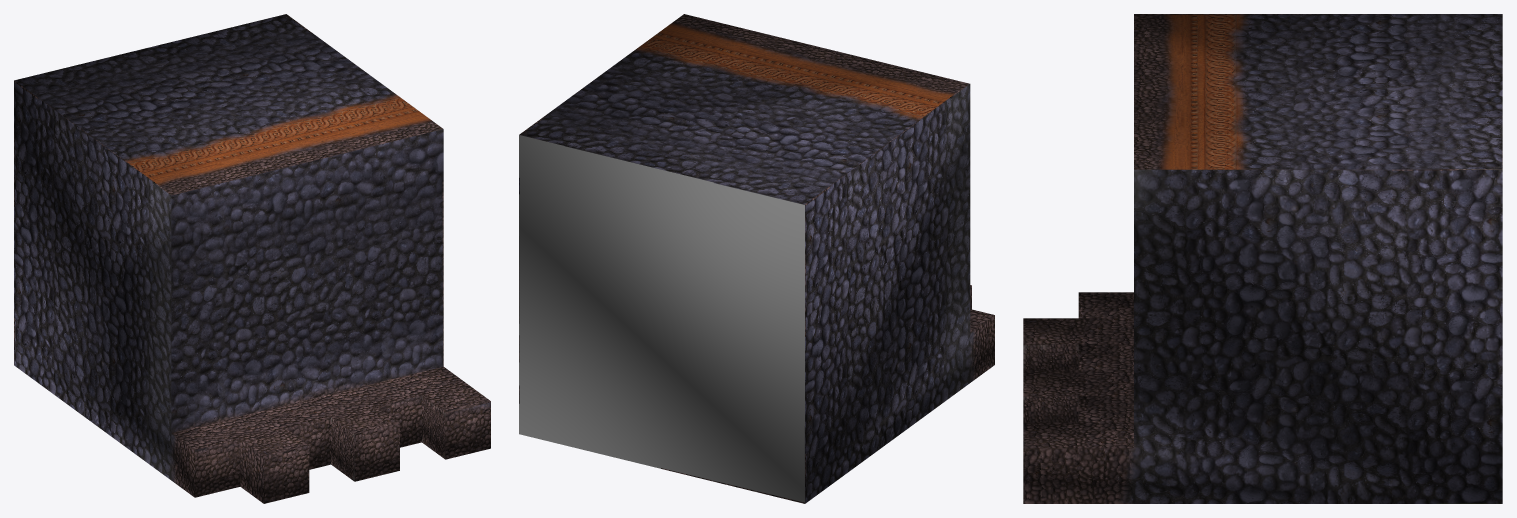
Rendered from Safeworld_wall_1.fbx.
The picture shows the model from 3 angles, left to right: view 1: azimuth 30°, elevation 25°; view 2: azimuth 150°, elevation 25°; view 3: azimuth 270°, elevation 25°; orthographic projection. The views are drawn at different scales.
Parts seen in each view (by area): view 1: SafeworldWall_1; view 2: SafeworldWall_1; view 3: SafeworldWall_1.
Boxes of the visible parts, bbox=[...] form: SafeworldWall_1: bbox=[14, 14, 490, 503]; SafeworldWall_1: bbox=[519, 14, 994, 503]; SafeworldWall_1: bbox=[1023, 14, 1502, 503].
Size of the model in its own units: 10 by 10 by 13.
Materials: 1 (1 with a texture image).
